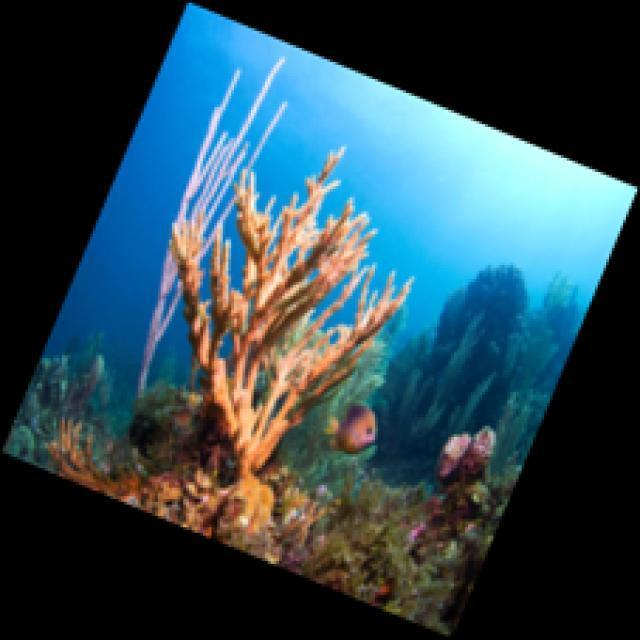Healthy: (169, 142, 411, 483), (136, 55, 295, 399), (50, 417, 281, 540), (435, 425, 501, 529)
